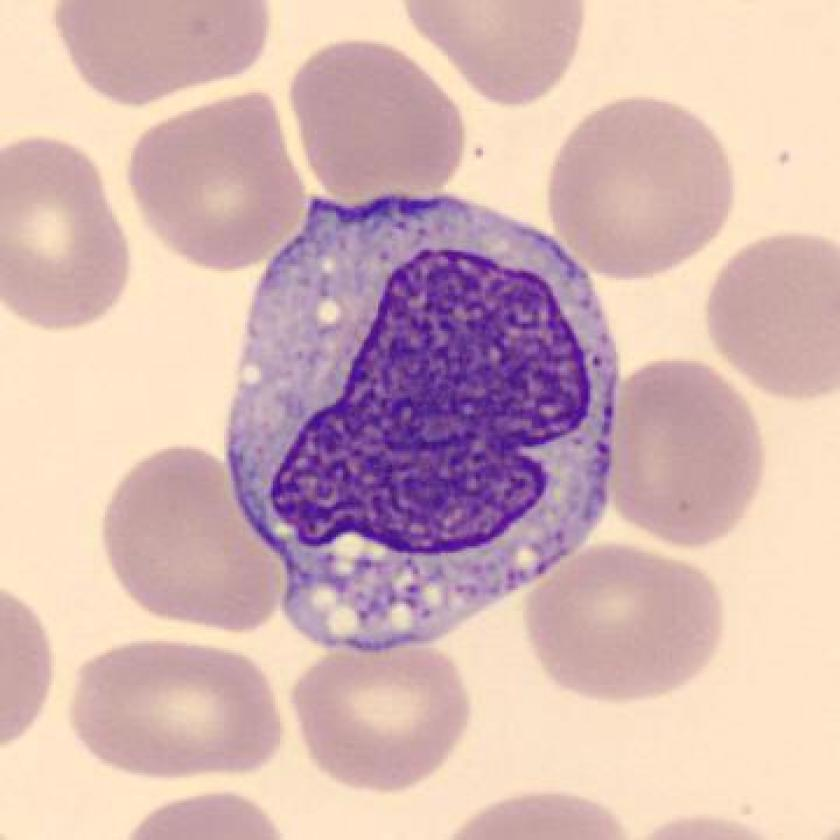monocyte: (216, 177, 636, 665)
